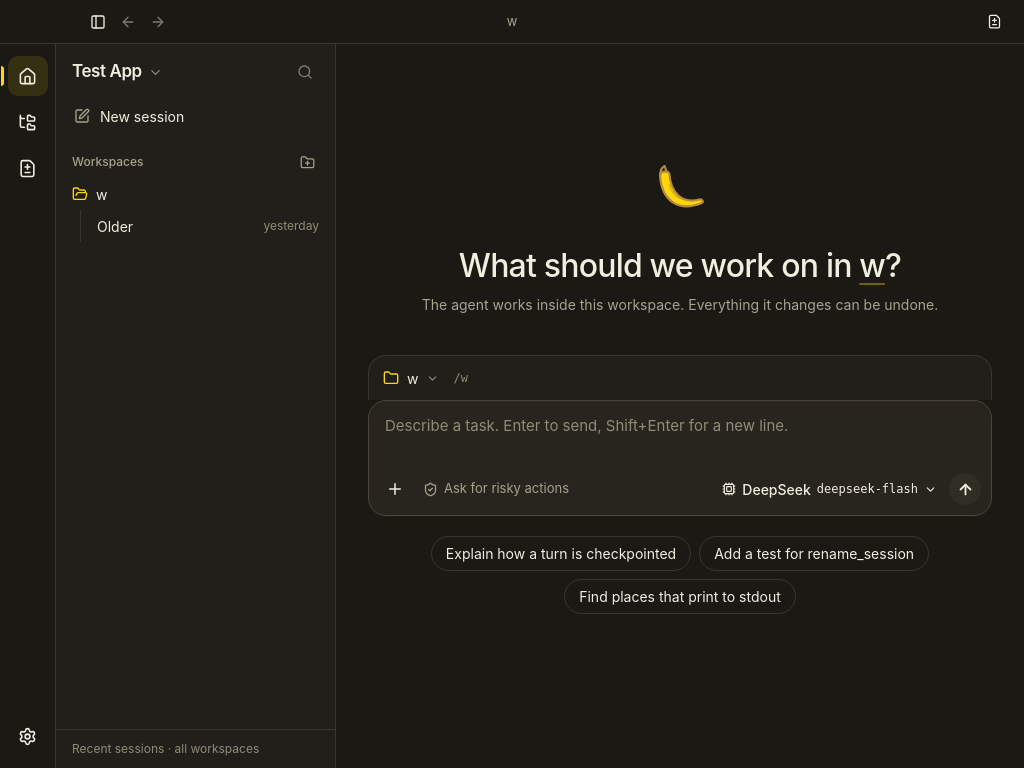
Test: the approval dialog › it shows the tool, command, workspace and rule, with Deny focused
Check: the text "Older" is shown, box [97,218,133,234]
Type "go" into the text box labelled "task" at (680, 435), box [369,401,991,469]
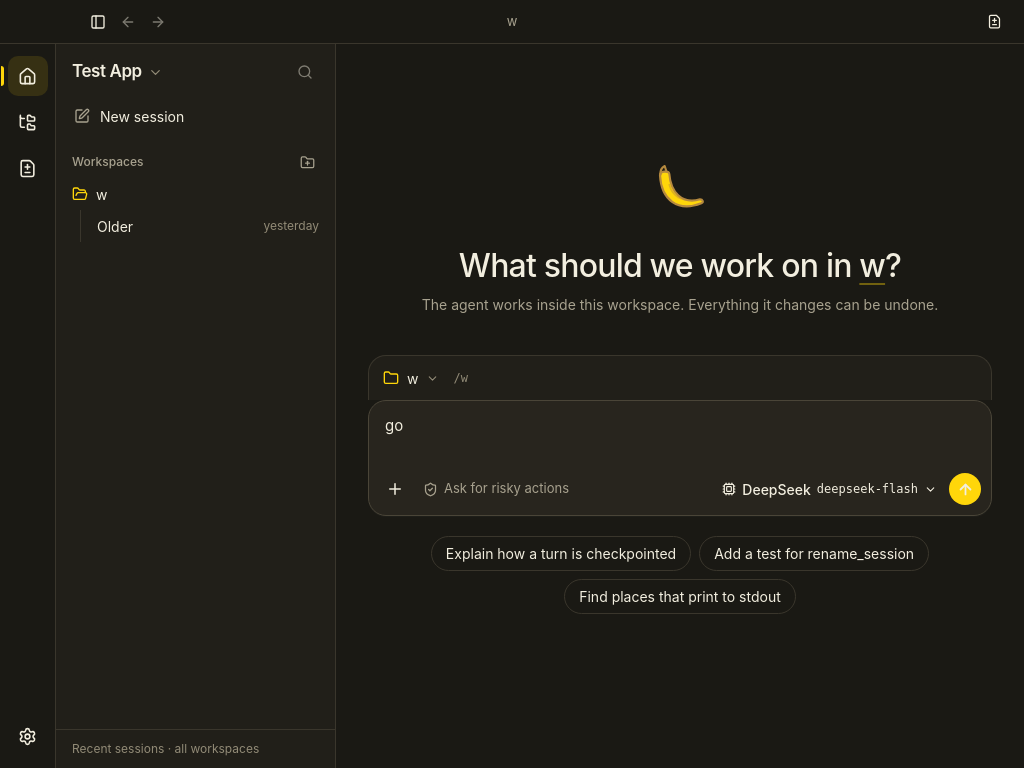
Click the button named "Send" at (965, 489), box [949,473,981,505]
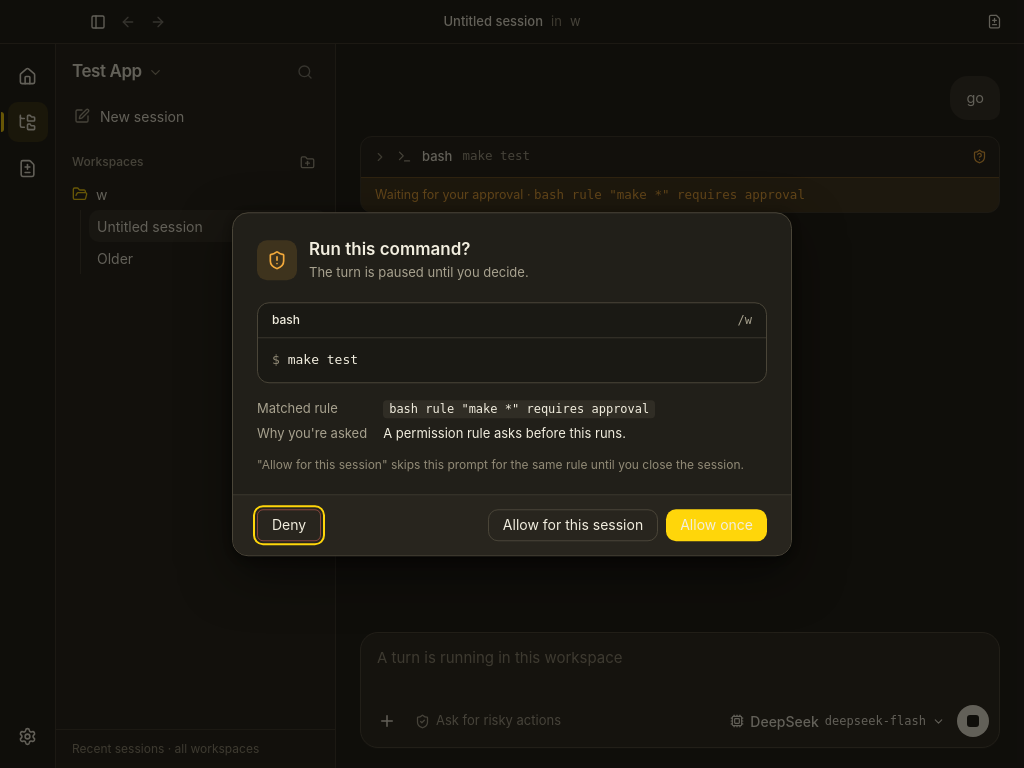
Check: the heading "Run this command?" is shown, box [309,239,471,259]
Check: the text "make test" is shown, box [288,352,358,367]
Check: the text "bash" is shown, box [272,311,300,329]
